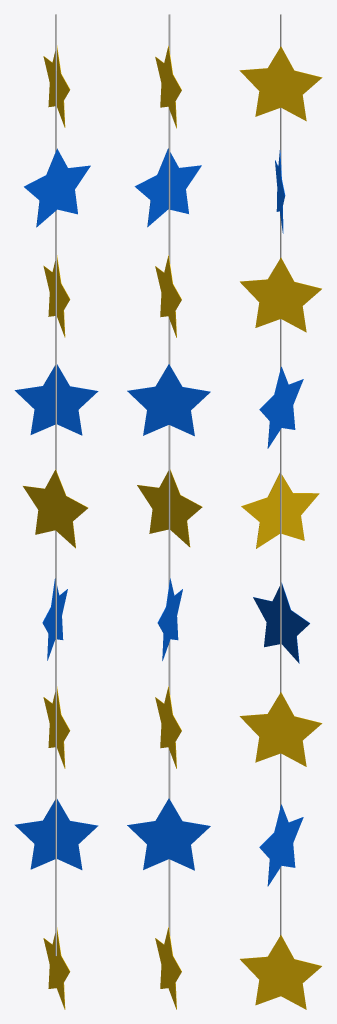
The model's file is PartyHangings01C_6.FBX.
The picture shows the model from 3 angles, left to right: view 1: azimuth 30°, elevation 25°; view 2: azimuth 210°, elevation 25°; view 3: azimuth 270°, elevation 25°; orthographic projection.
Visible parts, largest first — view 1: PartyHangings01C_6; view 2: PartyHangings01C_6; view 3: PartyHangings01C_6.
Boxes of the visible parts, x1,y1,x2,y2 form: PartyHangings01C_6: (14, 14, 98, 1009); PartyHangings01C_6: (127, 14, 210, 1009); PartyHangings01C_6: (239, 14, 322, 1009).
Size of what is drawn, in the model's own units: 0.0836 by 1.09 by 0.0825.
